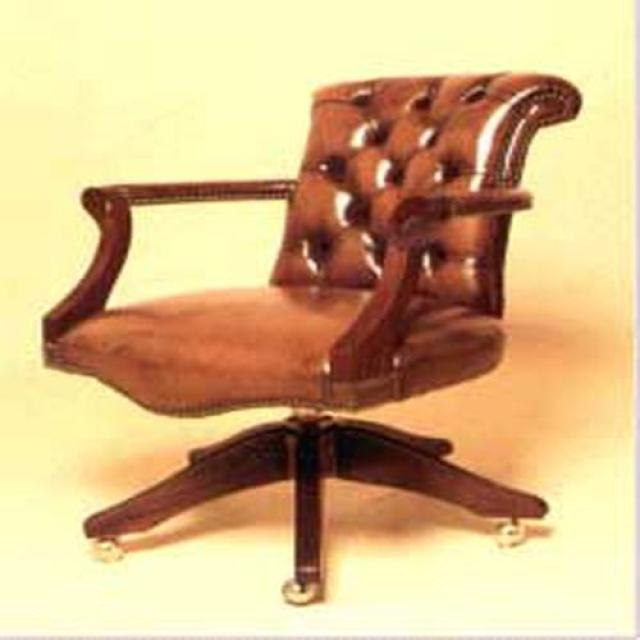swivelchair: (41, 72, 582, 608)
